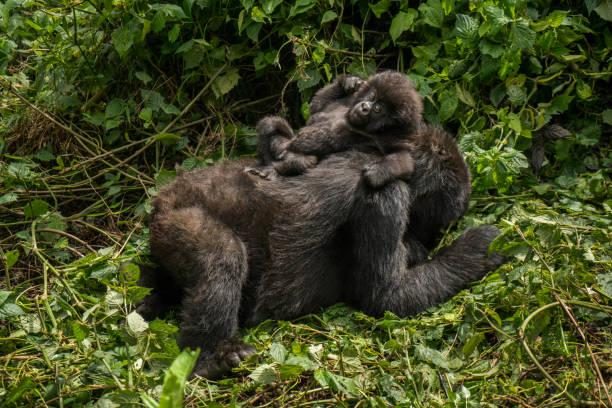goriile_montagne: (134, 119, 497, 327), (237, 58, 433, 179)
